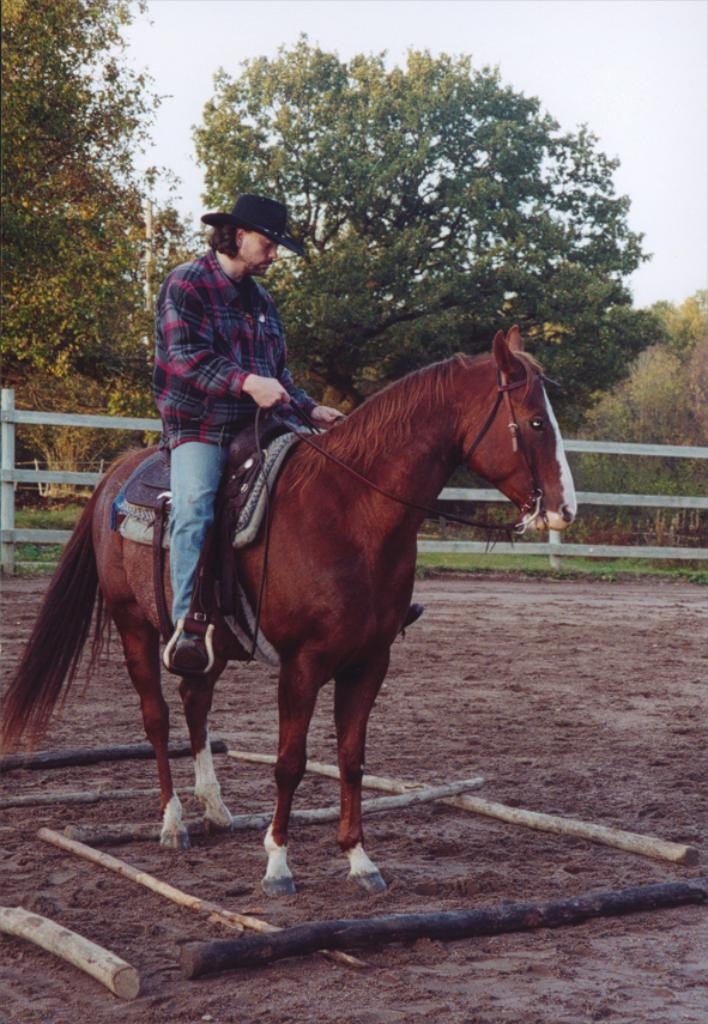horse: (0, 324, 576, 898)
